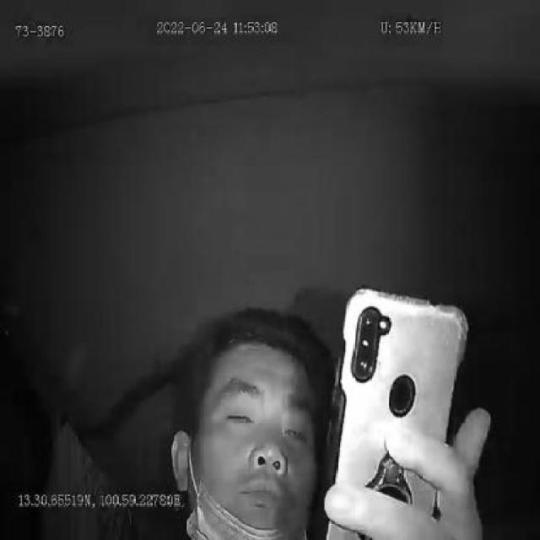phone: (321, 282, 470, 540)
